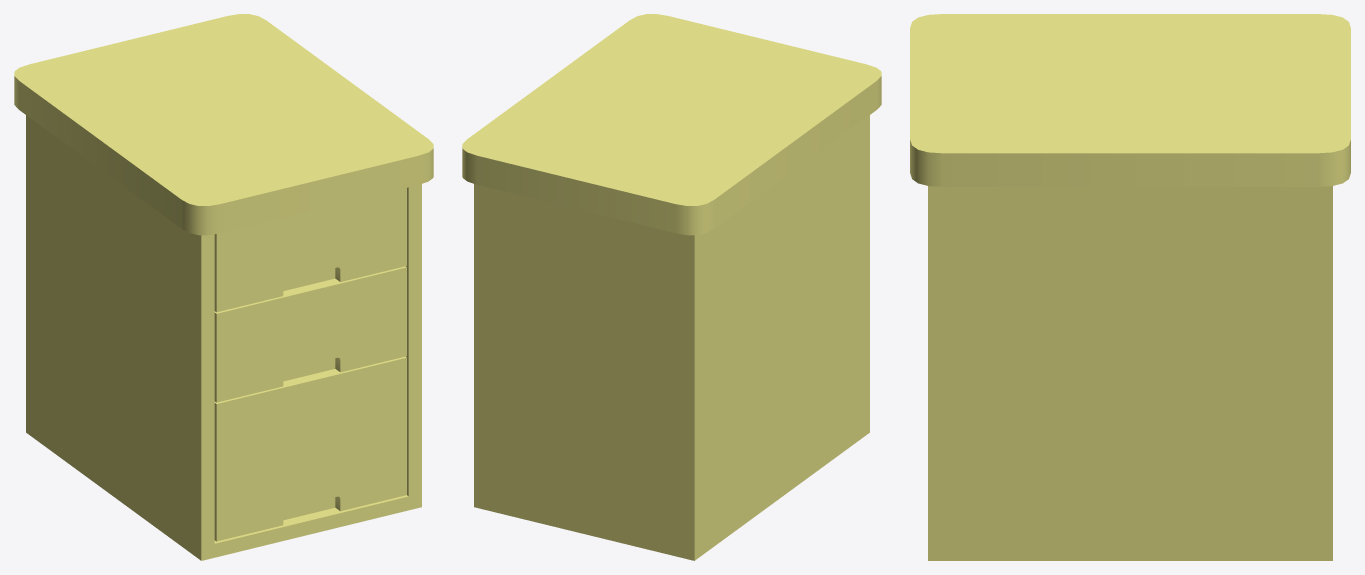
File: table1.fbx
3 views of the same model, side by side, from view 1: azimuth 30°, elevation 25°; view 2: azimuth 150°, elevation 25°; view 3: azimuth 270°, elevation 25° (orthographic). The views are drawn at different scales.
Parts seen in each view (by area): view 1: table1; view 2: table1; view 3: table1.
Part boxes in pixels (x1,y1,x2,y2): table1: (14,14,433,560); table1: (462,14,881,560); table1: (910,14,1350,560).
Bounding box in the file's own units: 28.21 × 39.21 × 37.73.
